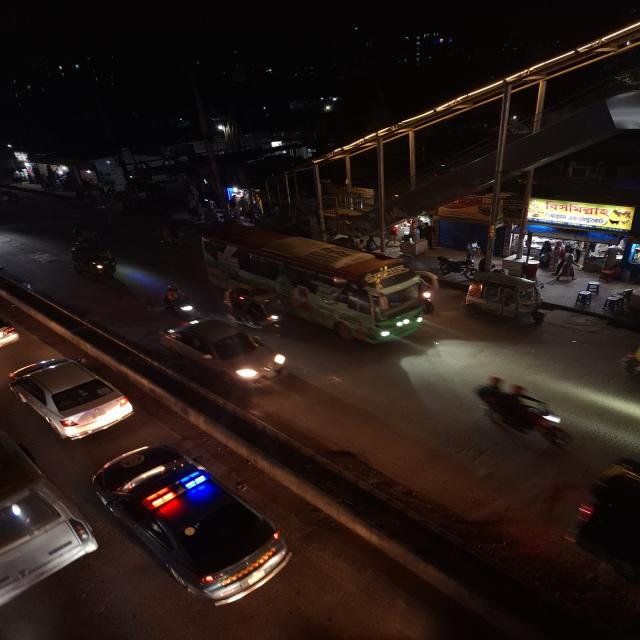bus: (196, 222, 442, 344)
car: (82, 438, 307, 609), (0, 354, 96, 634), (2, 354, 136, 442), (158, 319, 290, 390), (0, 291, 23, 355)
motorcycle: (472, 372, 572, 446), (220, 284, 284, 328), (159, 282, 201, 324)
rickshaw: (461, 274, 547, 324), (0, 183, 23, 211)
